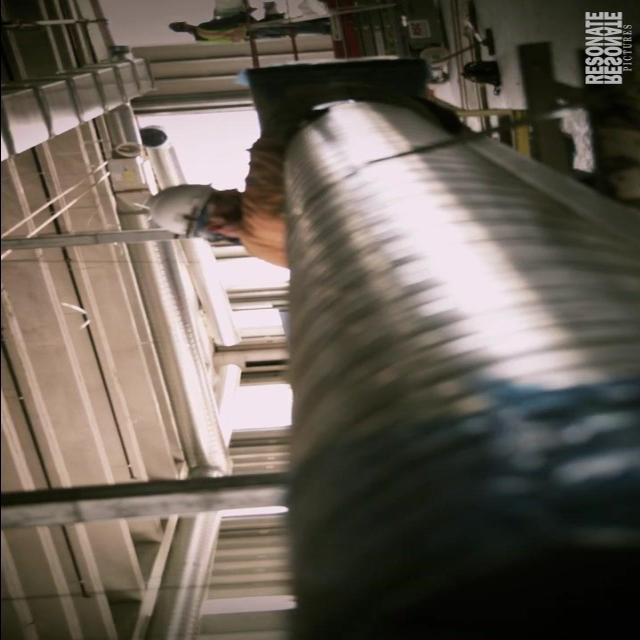helmet: (125, 177, 215, 243)
